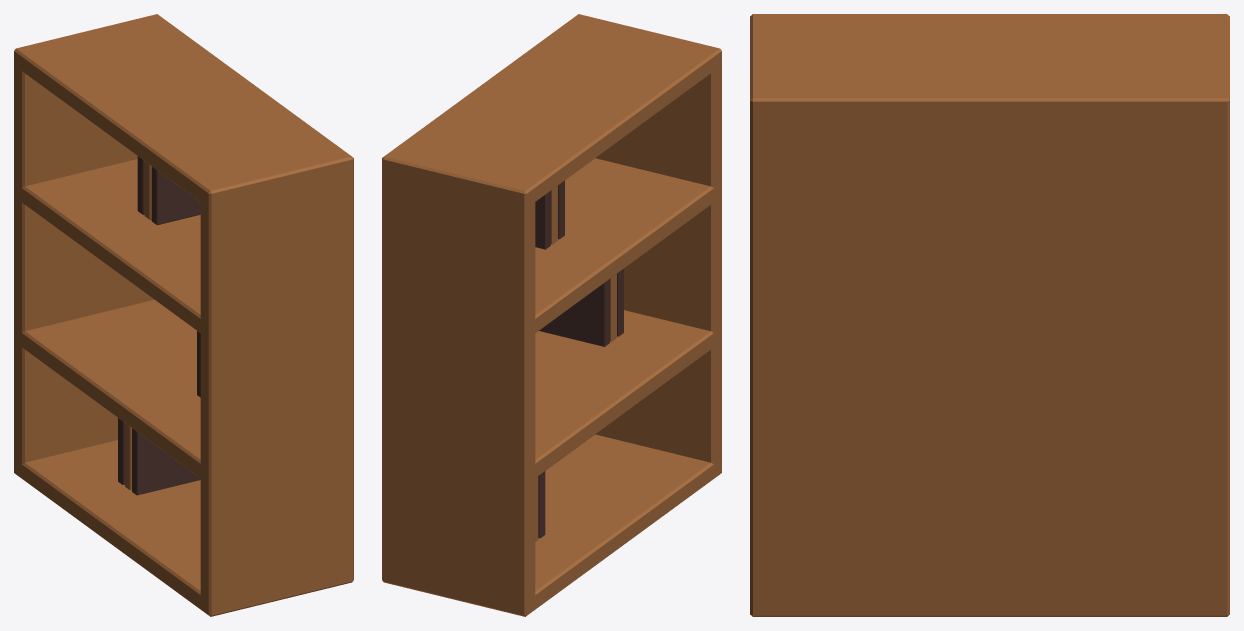
Rendered from etagere_perimetre.glb.
3 views of the same model, side by side, from view 1: azimuth 30°, elevation 25°; view 2: azimuth 150°, elevation 25°; view 3: azimuth 270°, elevation 25° (orthographic). The views are drawn at different scales.
Visible parts, largest first — view 1: etagere_perimetre; view 2: etagere_perimetre; view 3: etagere_perimetre.
Boxes of the visible parts, left/top/right/bottom form: etagere_perimetre: left=14, top=14, right=353, bottom=616; etagere_perimetre: left=382, top=14, right=721, bottom=616; etagere_perimetre: left=750, top=14, right=1229, bottom=616.
Bounding box in the file's own units: 0.66 × 1.85 × 1.55.
Materials: 1 (1 with a texture image).
